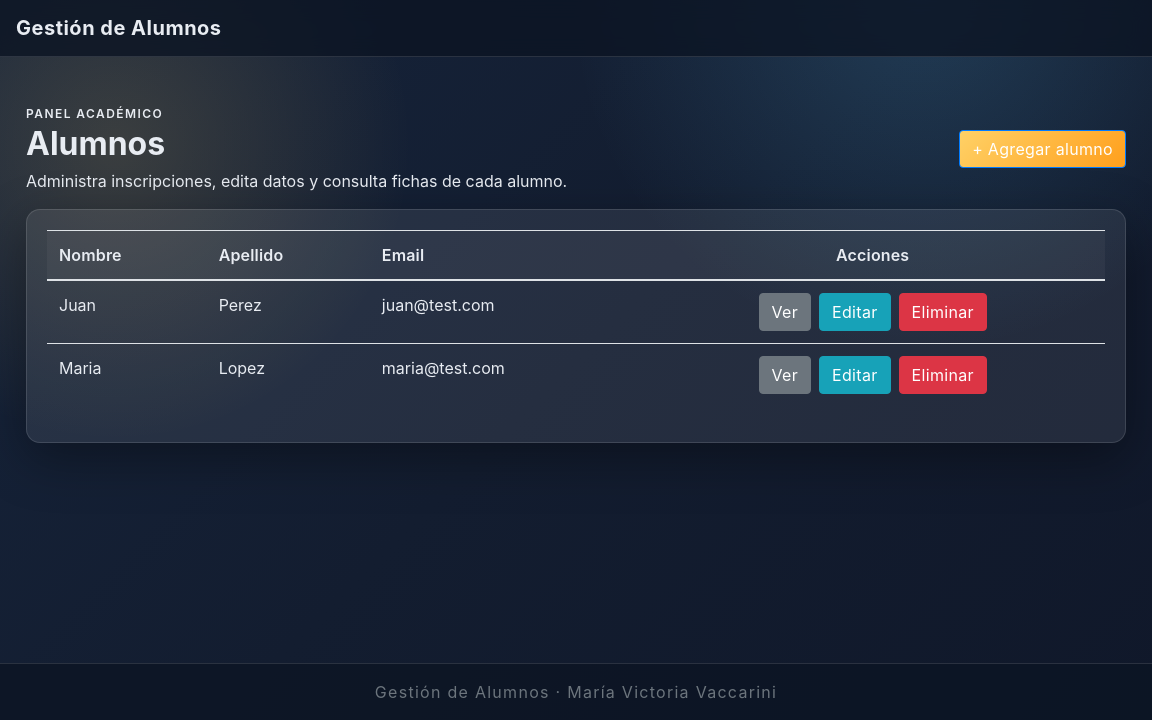
Eliminar alumno › elimina un alumno del listado
Click the button "Eliminar" in the row of "Perez" at point(943, 312), box [899,293,987,331]
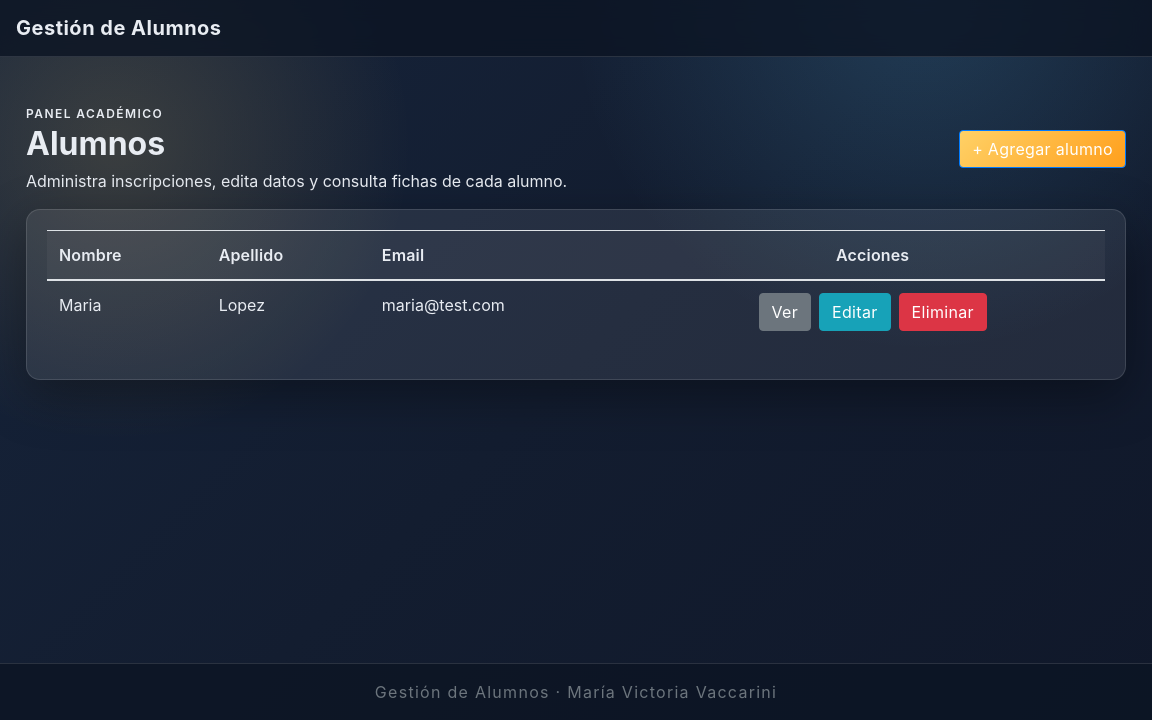
Result: the text "Juan" is gone
